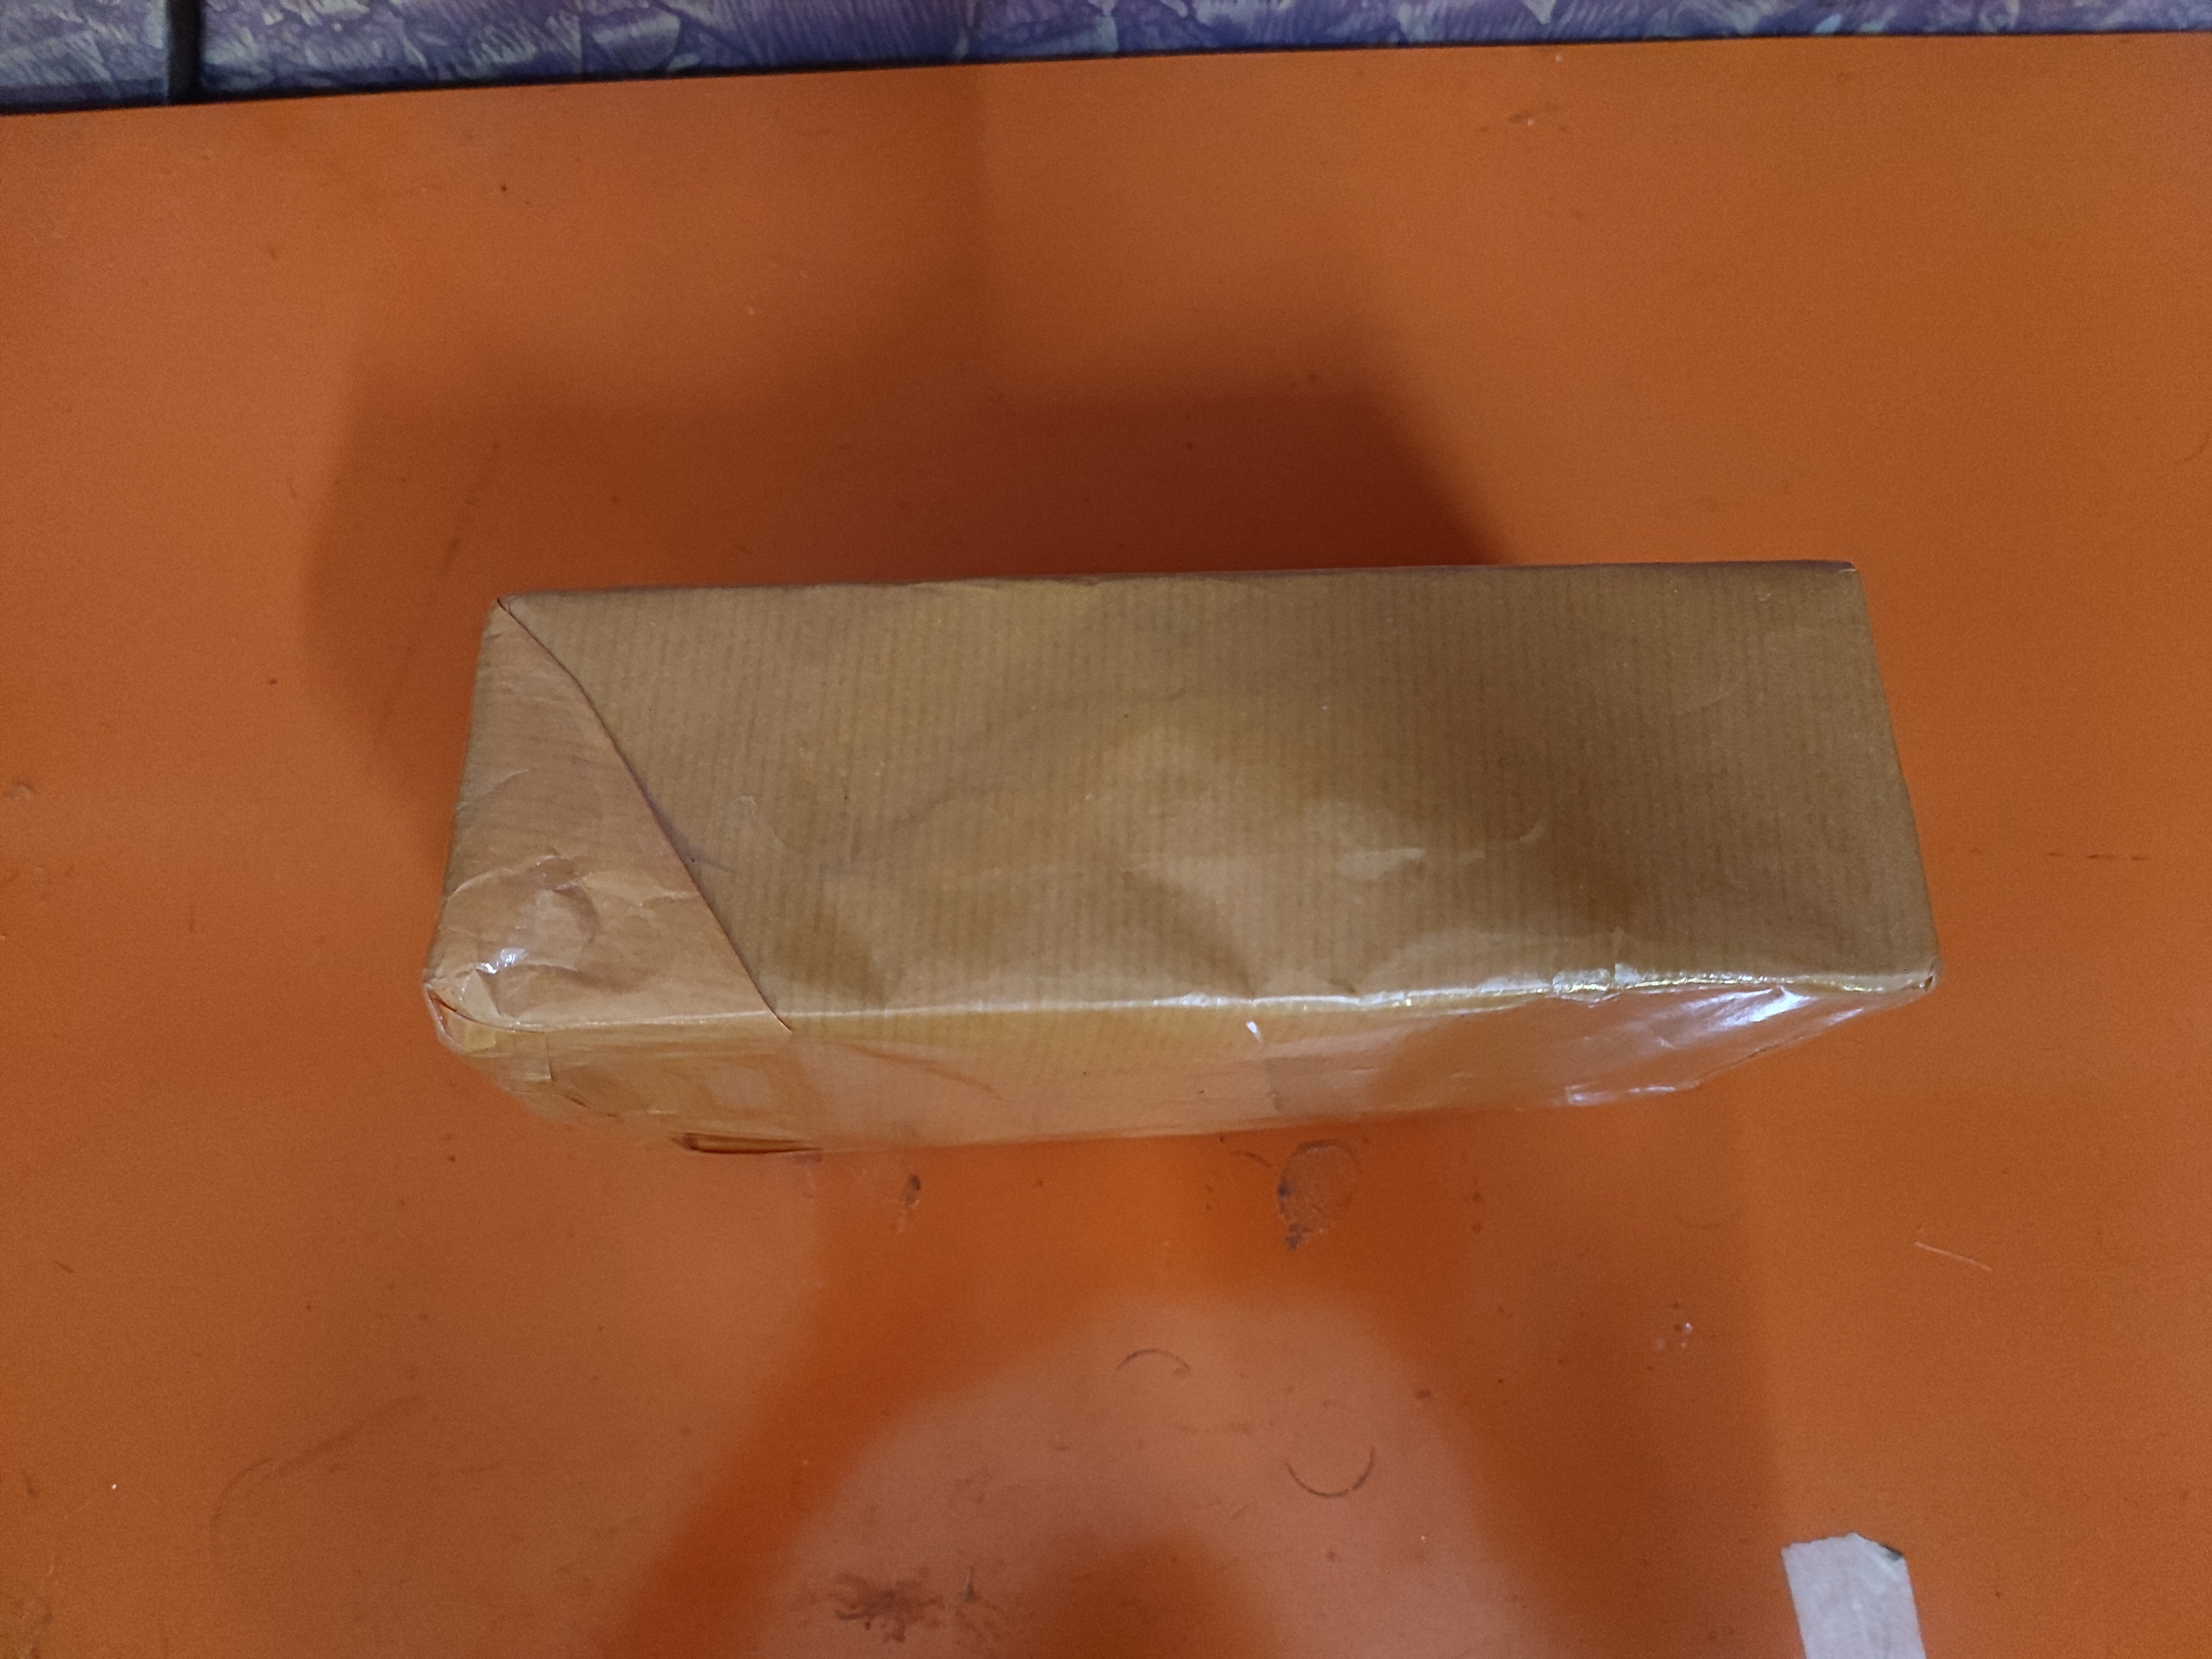Box: (385, 586, 1897, 1154)
